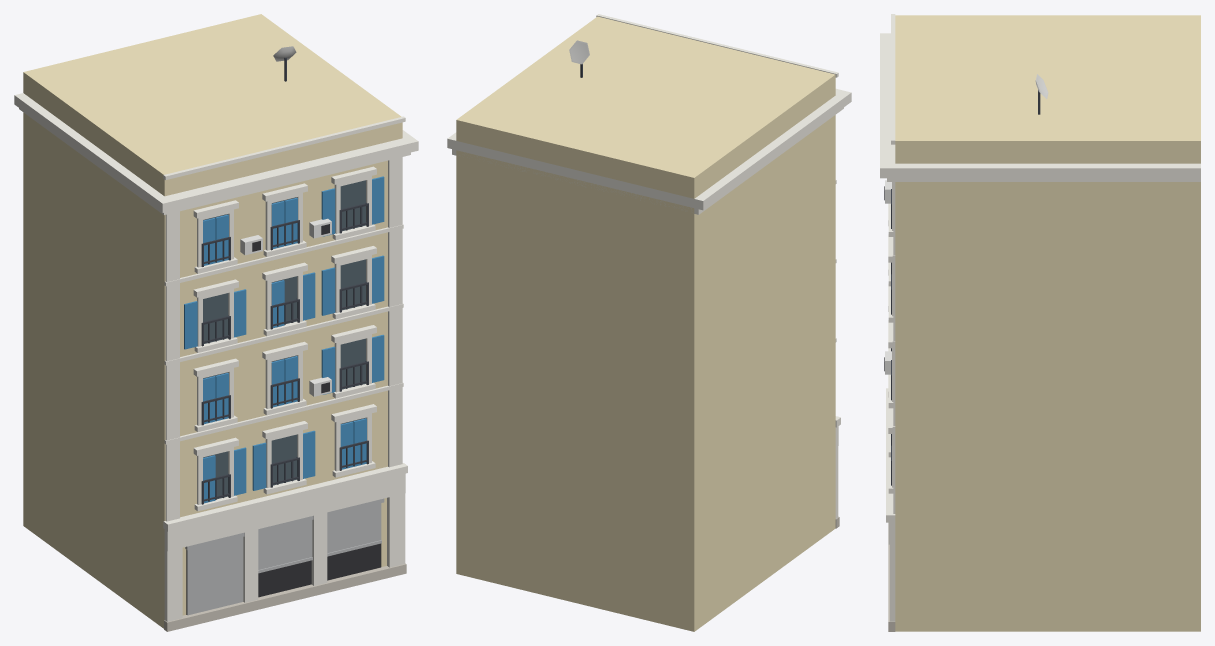
Rendered from bb_building_d.fbx.
The picture shows the model from 3 angles, left to right: view 1: azimuth 30°, elevation 25°; view 2: azimuth 150°, elevation 25°; view 3: azimuth 270°, elevation 25°; orthographic projection. The views are drawn at different scales.
Parts seen in each view (by area): view 1: bb_building_d; view 2: bb_building_d; view 3: bb_building_d.
Boxes of the visible parts, bbox=[...] form: bb_building_d: bbox=[14, 14, 418, 631]; bb_building_d: bbox=[447, 14, 851, 631]; bb_building_d: bbox=[880, 14, 1200, 631].
Bounding box in the file's own units: 11.5 × 21.01 × 11.55.
